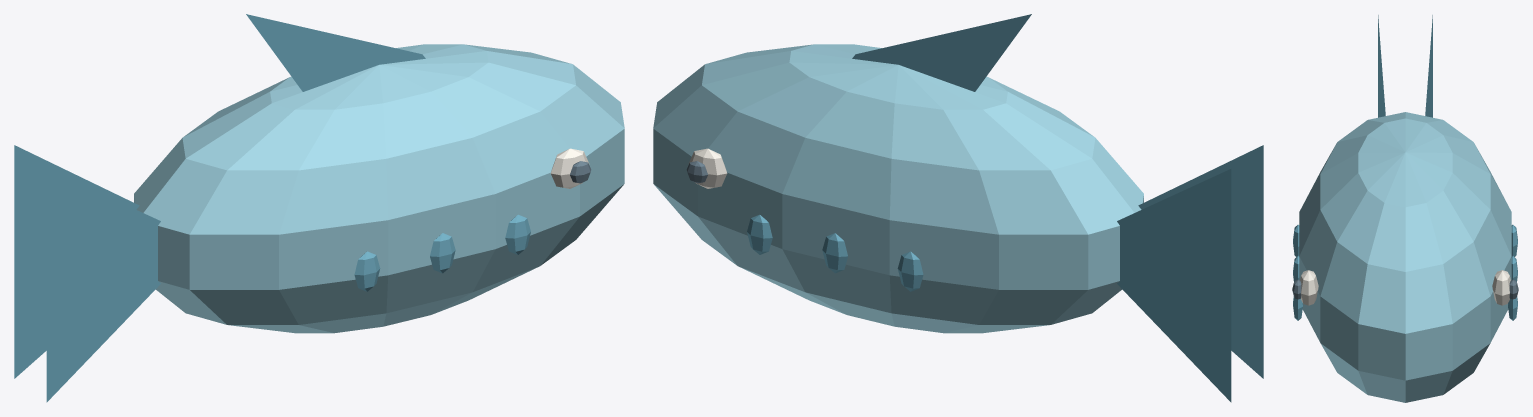
Rendered from pez_pequeno.glb.
The picture shows the model from 3 angles, left to right: view 1: azimuth 30°, elevation 25°; view 2: azimuth 150°, elevation 25°; view 3: azimuth 270°, elevation 25°; orthographic projection. The views are drawn at different scales.
Visible parts, largest first — view 1: pez_pequeno; view 2: pez_pequeno; view 3: pez_pequeno.
Boxes of the visible parts, <box> form: pez_pequeno: <box>14,14,624,402</box>; pez_pequeno: <box>653,14,1263,402</box>; pez_pequeno: <box>1292,15,1518,402</box>.
Size of the model in its own units: 0.7675 by 0.4116 by 0.3013.
